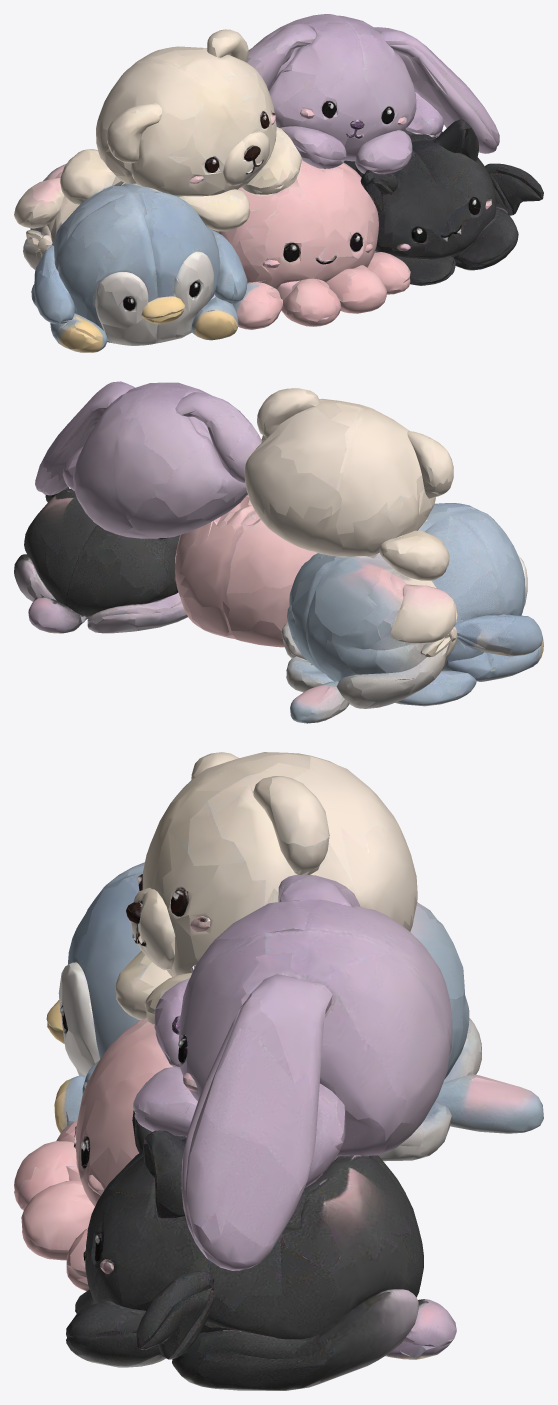
The model's file is pile-side-v1.glb.
3 views of the same model, one above another, from view 1: azimuth 30°, elevation 25°; view 2: azimuth 150°, elevation 25°; view 3: azimuth 270°, elevation 25° (orthographic). The views are drawn at different scales.
Parts seen in each view (by area): view 1: Mesh_0; view 2: Mesh_0; view 3: Mesh_0.
Boxes of the visible parts, x1,y1,x2,y2 form: Mesh_0: [14, 14, 543, 352]; Mesh_0: [14, 381, 543, 723]; Mesh_0: [14, 752, 543, 1390].
Size of the model in its own units: 1.9 by 0.9096 by 1.07.
1 material, 1 textured.
